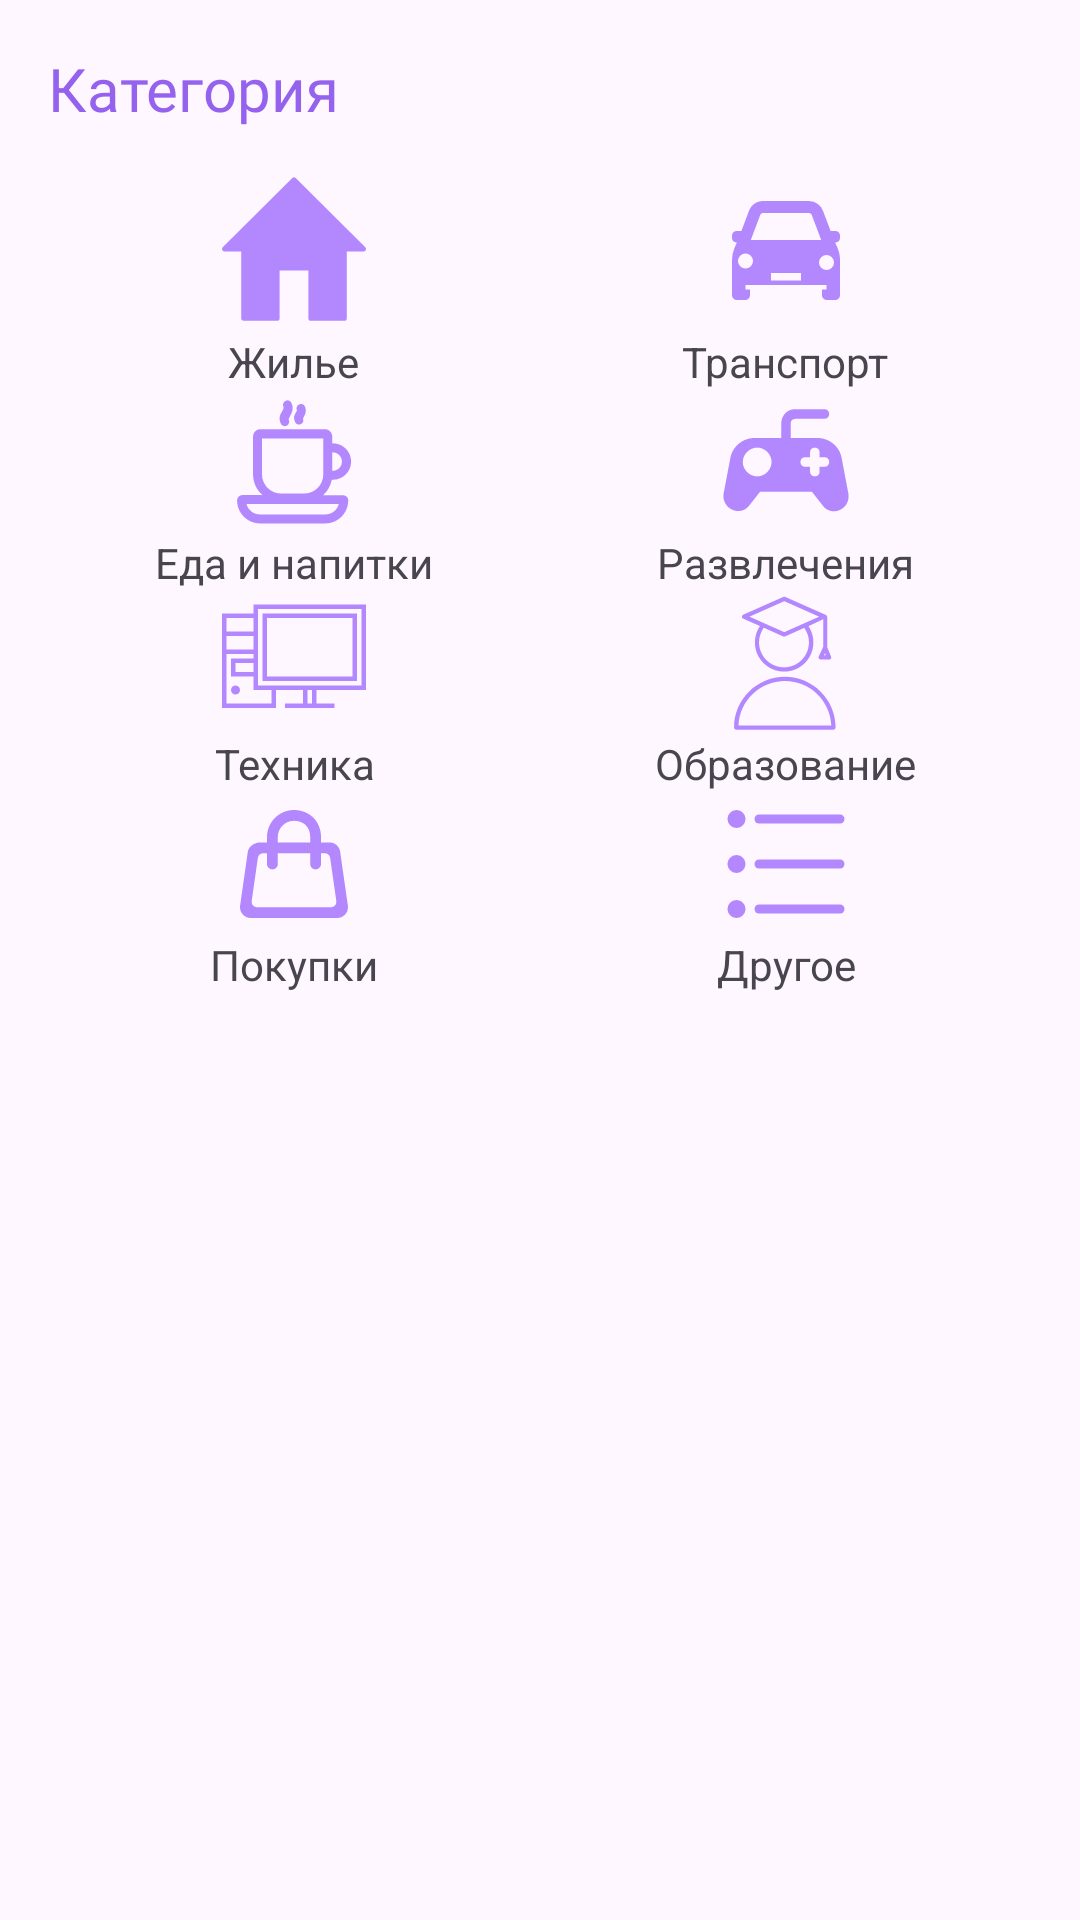

Point at icon controls on the screen. Image size 1080*1920, points as (x=x, y=y).
computer: (x=294, y=656)
gaming: (x=786, y=460)
transport: (x=786, y=250)
